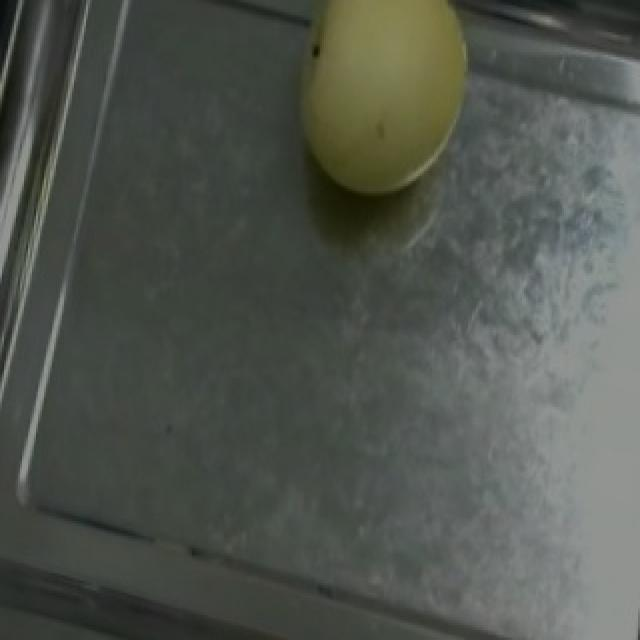Fruit: (262, 0, 496, 226)
